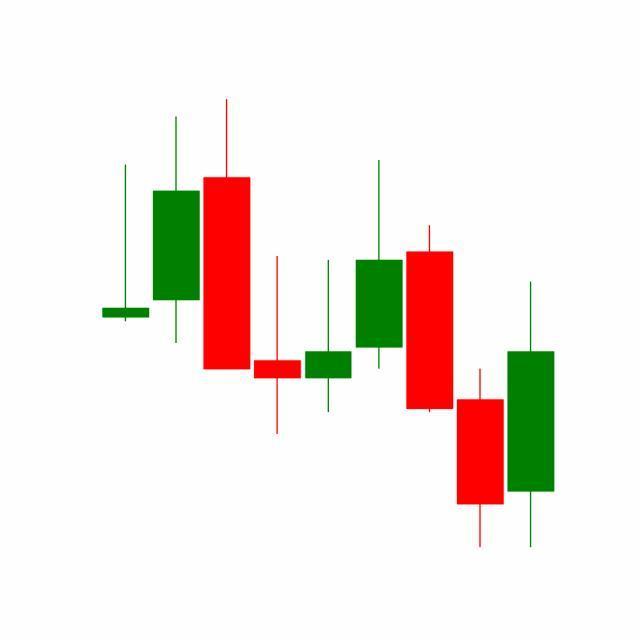Hikkake Pattern: (252, 156, 506, 549)
